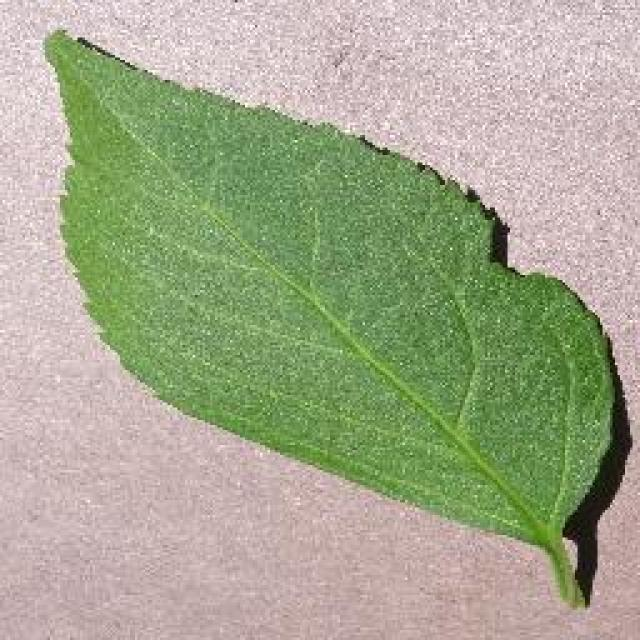Cherry___healthy: (38, 17, 628, 625)
